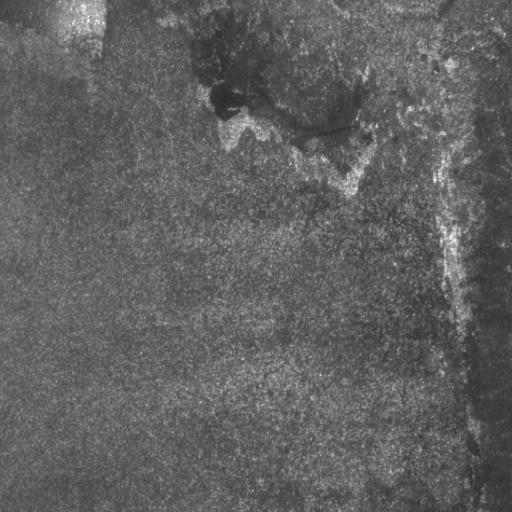aokeng: (191, 15, 366, 154)
qiaopi: (1, 1, 110, 66)
